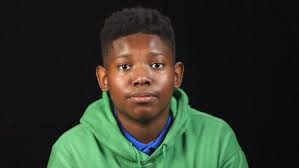person: (94, 6, 185, 122)
